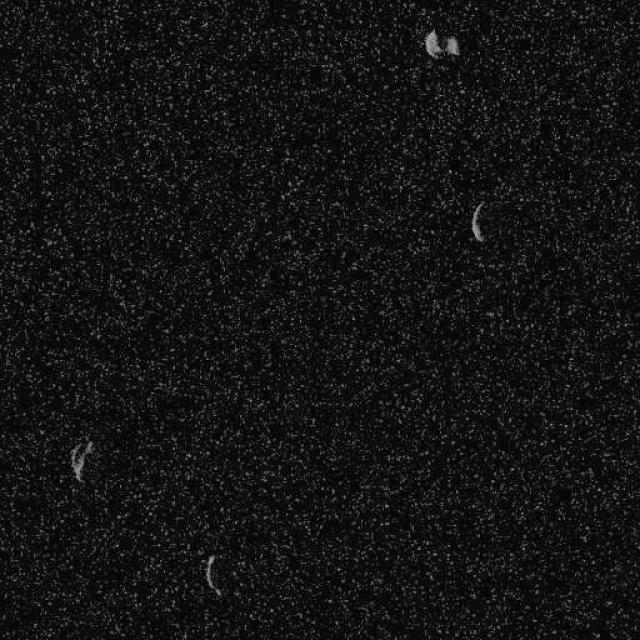D2: (422, 28, 460, 60), (69, 438, 95, 484), (202, 552, 222, 598), (470, 200, 486, 242)
